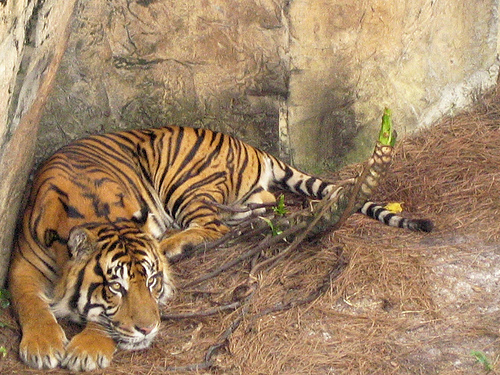Tigre: (38, 121, 344, 324)
